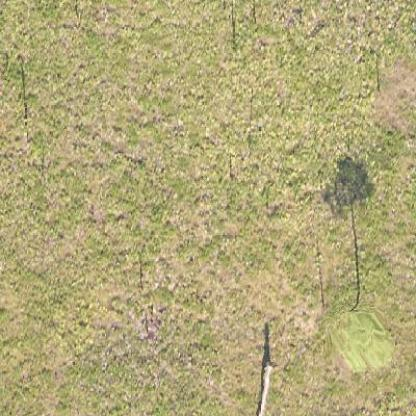tree-top: (326, 308, 398, 375)
